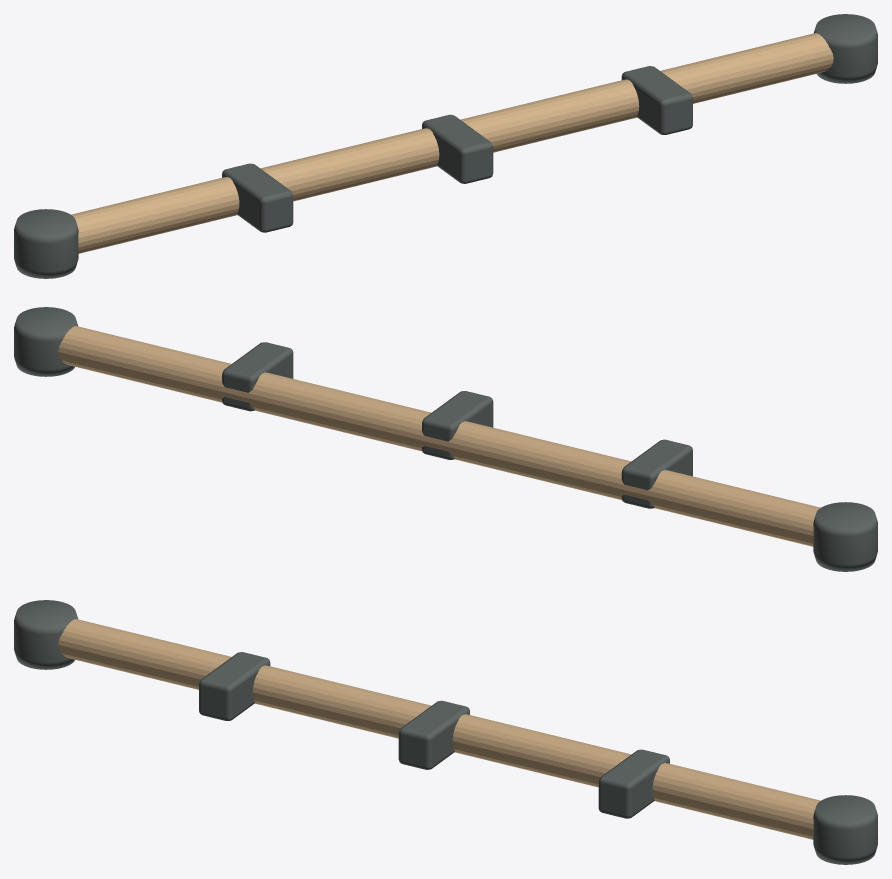
The model's file is public-library-and-reading-garden-public-library-and-r-c5b2ec7f__30928.glb.
3 renders of one model, top to bottom at view 1: azimuth 30°, elevation 25°; view 2: azimuth 150°, elevation 25°; view 3: azimuth 330°, elevation 25°, orthographic.
Visible parts, largest first — view 1: public-library-and-reading-garden-newspaper-holding-rod; view 2: public-library-and-reading-garden-newspaper-holding-rod; view 3: public-library-and-reading-garden-newspaper-holding-rod.
Boxes of the visible parts, left/top/right/bottom form: public-library-and-reading-garden-newspaper-holding-rod: left=14, top=14, right=877, bottom=278; public-library-and-reading-garden-newspaper-holding-rod: left=14, top=307, right=877, bottom=571; public-library-and-reading-garden-newspaper-holding-rod: left=14, top=600, right=877, bottom=864.
Size of the model in its own units: 0.642 by 0.033 by 0.0635.
